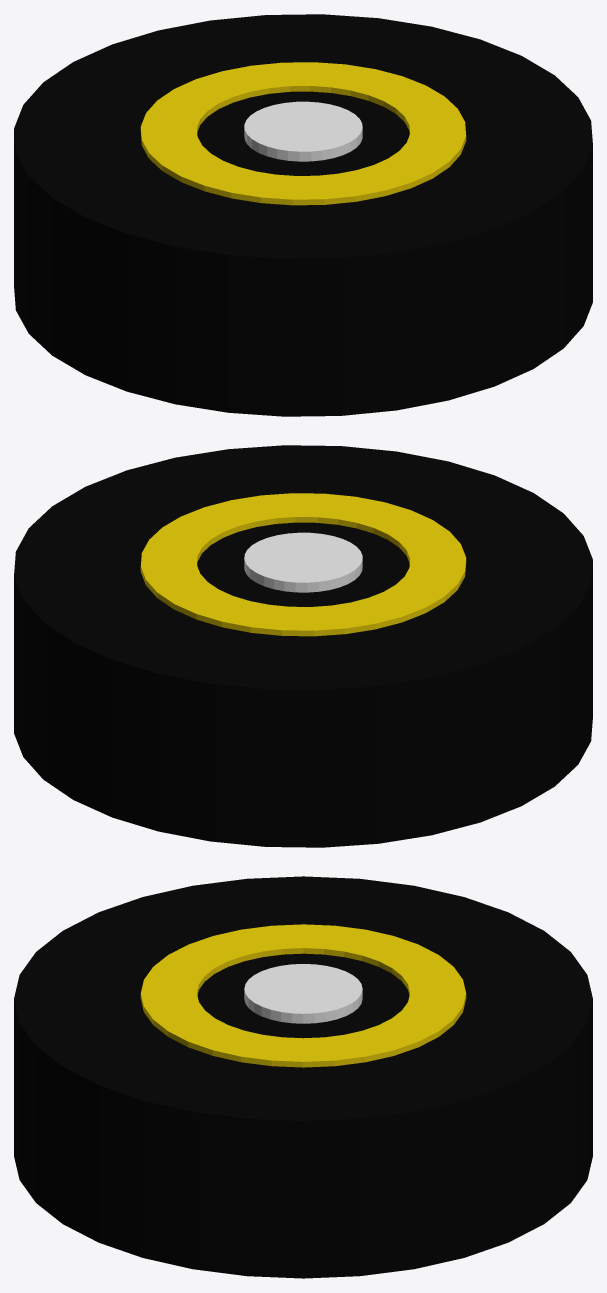
The model's file is racewheel.glb.
3 renders of one model, top to bottom at view 1: azimuth 30°, elevation 25°; view 2: azimuth 150°, elevation 25°; view 3: azimuth 270°, elevation 25°, orthographic.
Parts seen in each view (by area): view 1: Cylinder, Cylinder.001, Cylinder.002; view 2: Cylinder, Cylinder.001, Cylinder.002; view 3: Cylinder, Cylinder.001, Cylinder.002.
Boxes of the visible parts, x1=… form: Cylinder: x1=14, y1=14, x2=592, y2=416; Cylinder.001: x1=140, y1=62, x2=466, y2=205; Cylinder.002: x1=244, y1=101, x2=362, y2=161; Cylinder: x1=14, y1=445, x2=592, y2=847; Cylinder.001: x1=140, y1=493, x2=466, y2=636; Cylinder.002: x1=244, y1=532, x2=362, y2=592; Cylinder: x1=14, y1=876, x2=592, y2=1278; Cylinder.001: x1=140, y1=924, x2=466, y2=1067; Cylinder.002: x1=244, y1=964, x2=362, y2=1023.
Bounding box in the file's own units: 2 × 0.6378 × 2.
